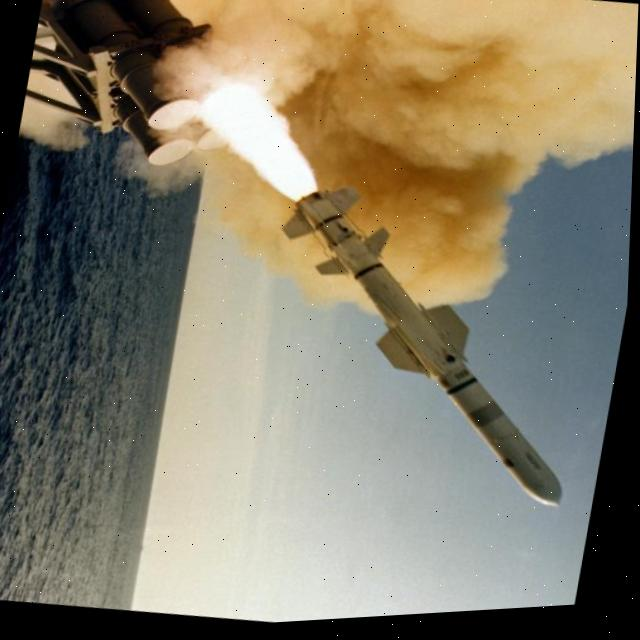missile: (247, 165, 620, 529)
